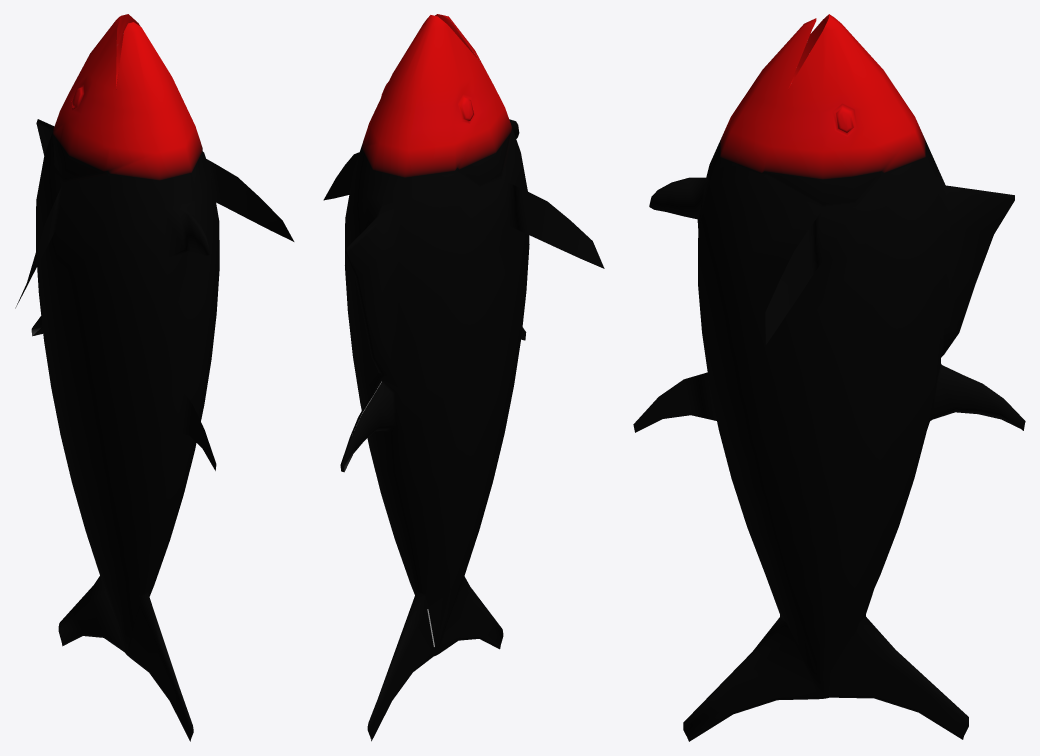
The model's file is FishVertPainted.fbx.
3 renders of one model, left to right at view 1: azimuth 30°, elevation 25°; view 2: azimuth 150°, elevation 25°; view 3: azimuth 270°, elevation 25°, orthographic. The views are drawn at different scales.
Visible parts, largest first — view 1: Cube; view 2: Cube; view 3: Cube.
Part boxes in pixels (box(x1,y1,x2,y2)): Cube: box(15, 14, 294, 741); Cube: box(323, 14, 604, 741); Cube: box(633, 14, 1025, 741).
Size of the model in its own units: 476 by 1102 by 540.
